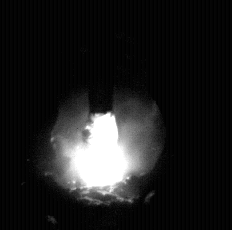arame: (90, 0, 114, 115)
poca: (49, 0, 167, 230)
